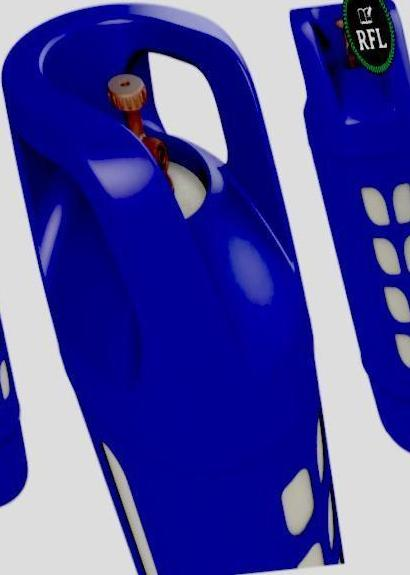cylinder: (1, 1, 410, 575)
